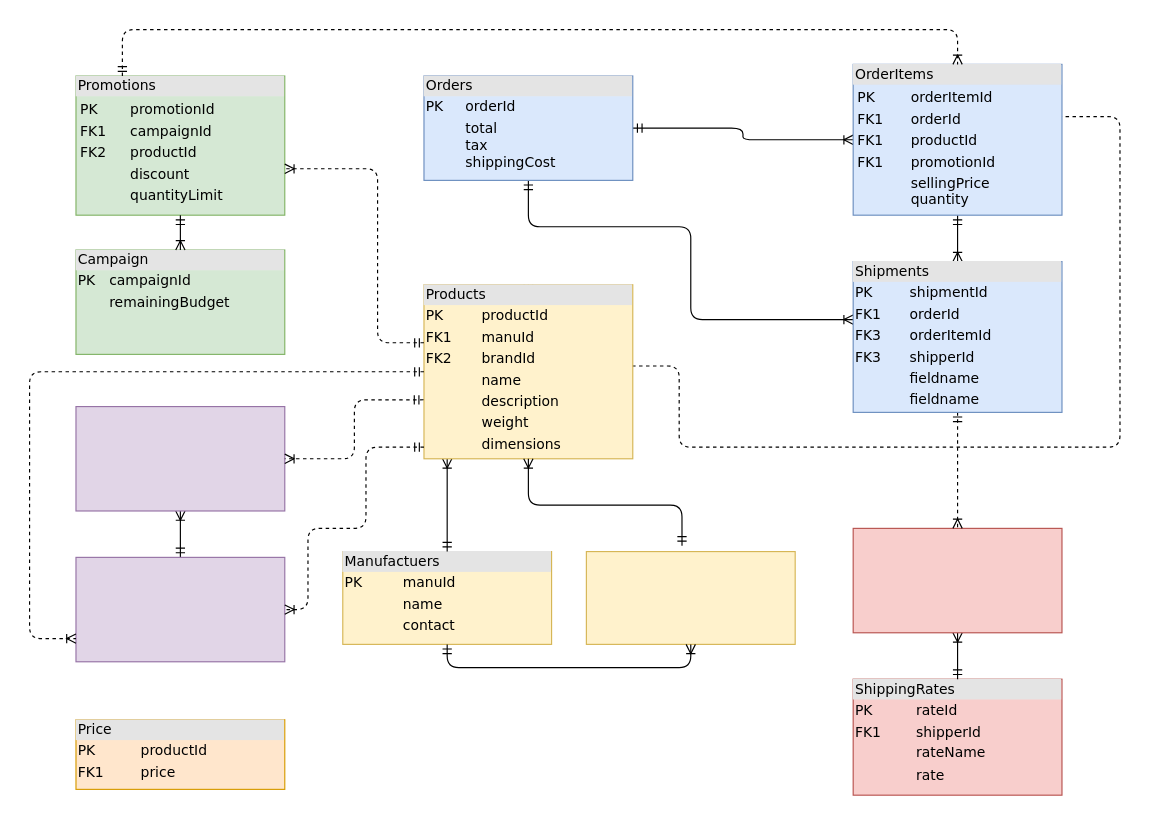
The diagram is 1151 pixels wide and 815 high, and some of its shapes have lost their labels. The shapes that lost their labels are listed below. From the top down, each one's centre as x and y in pixels, then its label:
At point (180, 458): "Inventory PK,FK1 purchaseOrderId PK,FK2 productId quantity cost".
At point (690, 597): "Brands PK brandId FK1 manuId name".
At point (957, 580): "ShippingProviders PK shipperId fieldname".
At point (180, 609): "PurchaseOrders PK purchseOrderId FK1 productId issueDate forfilledDate".
